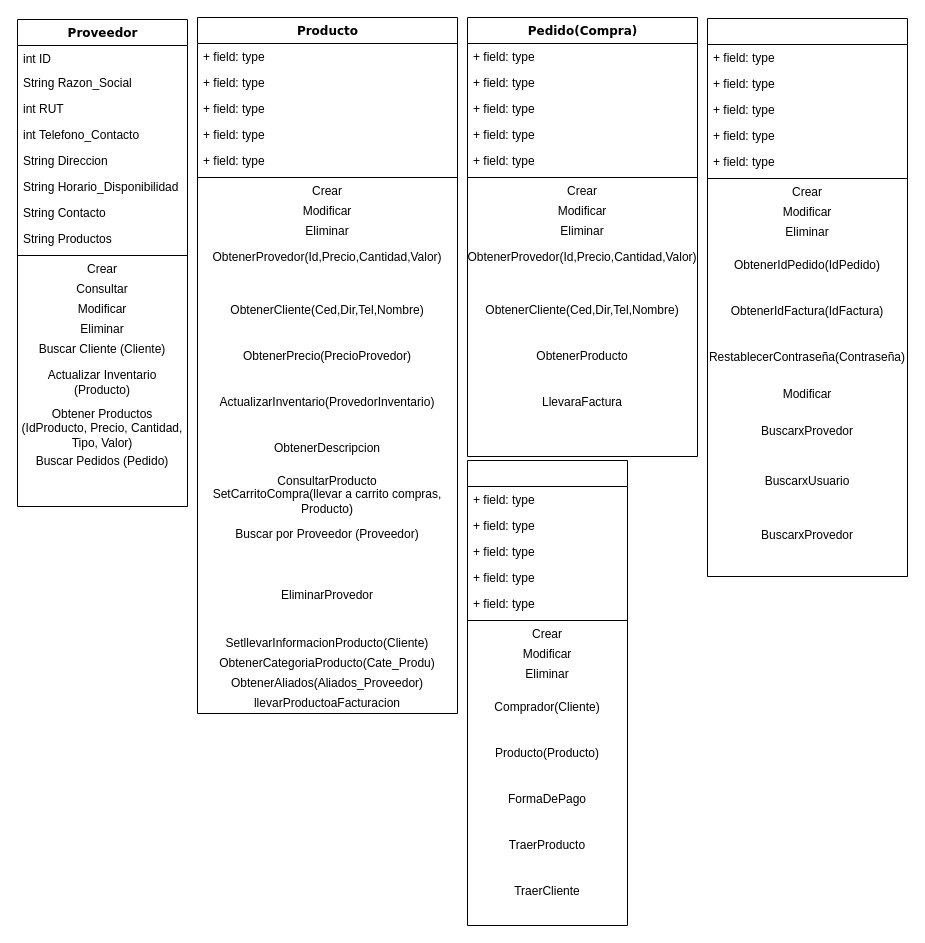
Image size: 925x943. Some labels were removed from this diagram. The shapes that lost their labels are listed below. From the top down, each one's box as (x1, y1, x2, y2) in pixels, then its label:
(706, 18, 908, 576): Cliente
(466, 460, 628, 926): Facturación
